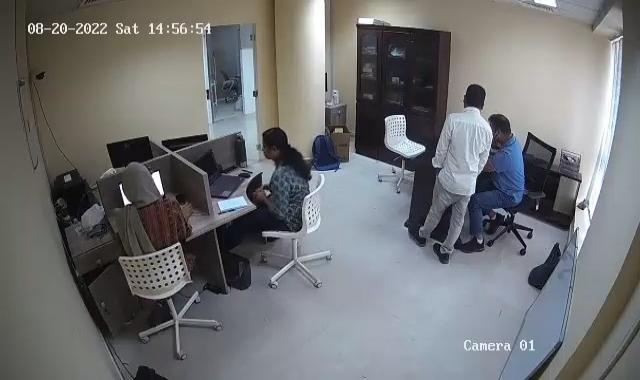no_hairnet: (116, 164, 158, 199), (262, 124, 292, 162), (487, 110, 517, 141), (462, 83, 491, 108)
